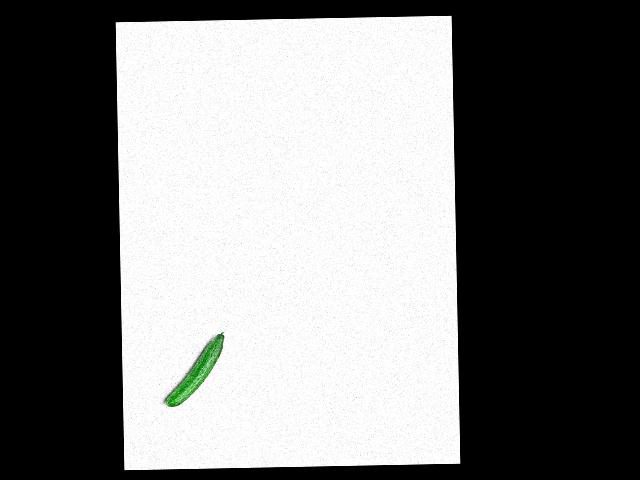cucumber: (163, 330, 225, 406)
